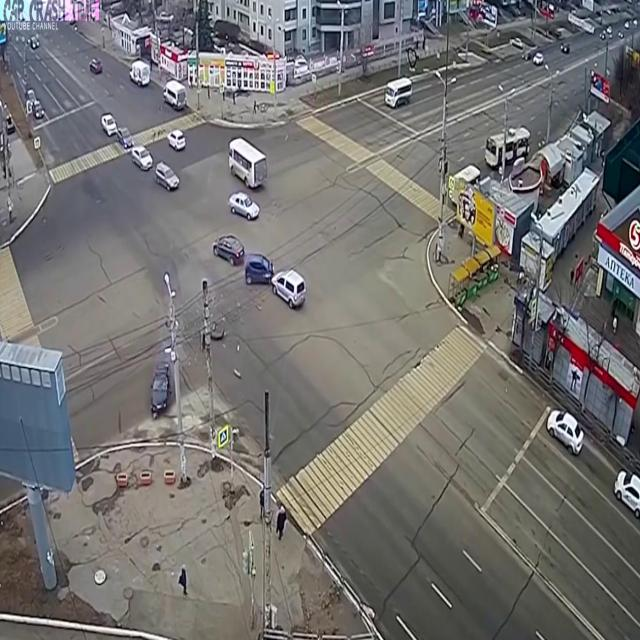accident: (146, 228, 308, 426), (243, 246, 309, 312)
non_accident: (100, 103, 188, 201), (226, 134, 268, 226)
